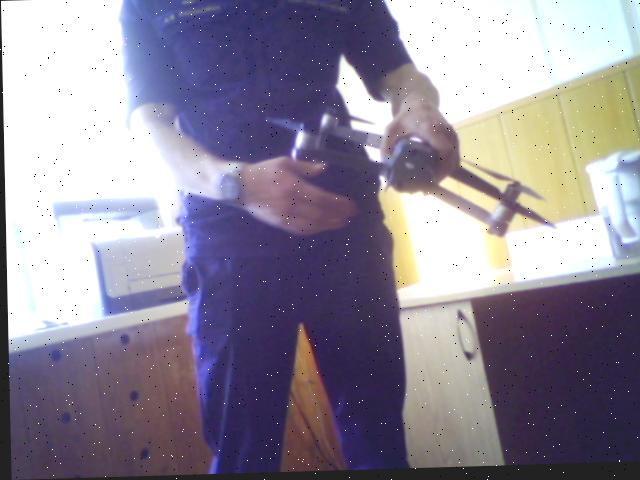drone: (263, 102, 555, 249)
